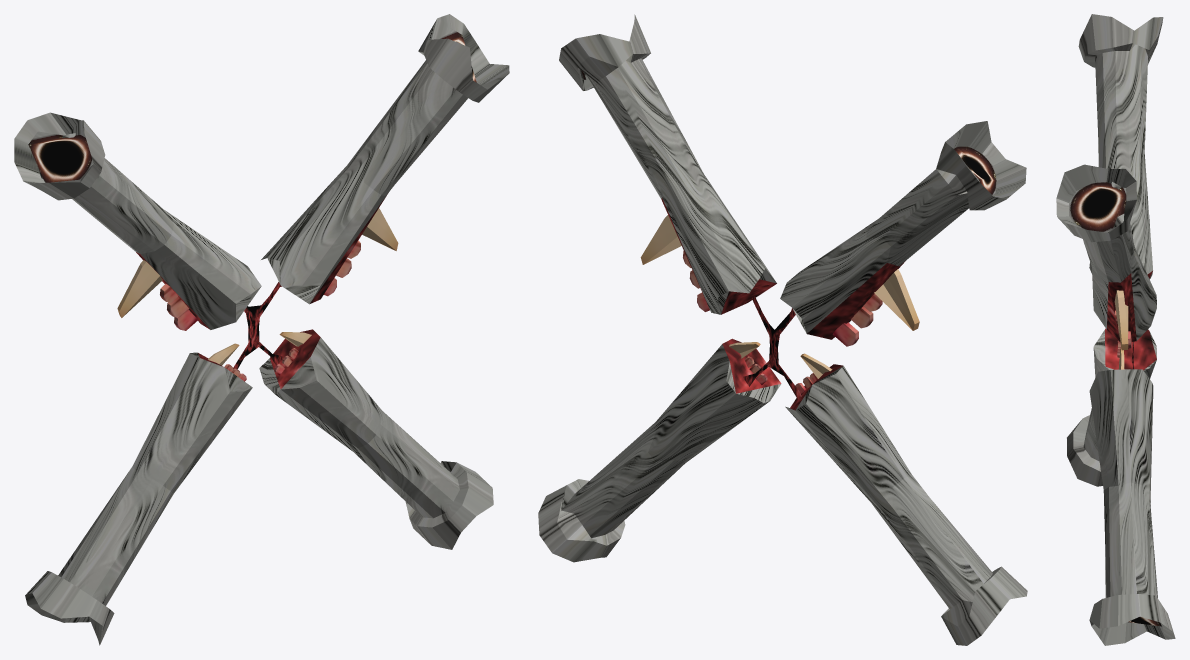
Rendered from beast.glb.
3 renders of one model, left to right at view 1: azimuth 30°, elevation 25°; view 2: azimuth 150°, elevation 25°; view 3: azimuth 270°, elevation 25°, orthographic. The views are drawn at different scales.
Parts seen in each view (by area): view 1: Cylinder; view 2: Cylinder; view 3: Cylinder.
Boxes of the visible parts, x1,y1,x2,y2 form: Cylinder: (14, 14, 509, 645); Cylinder: (538, 14, 1027, 645); Cylinder: (1056, 14, 1175, 645).
Size of the model in its own units: 4.76 by 5.09 by 1.15.
Materials: 2 (2 with a texture image).
